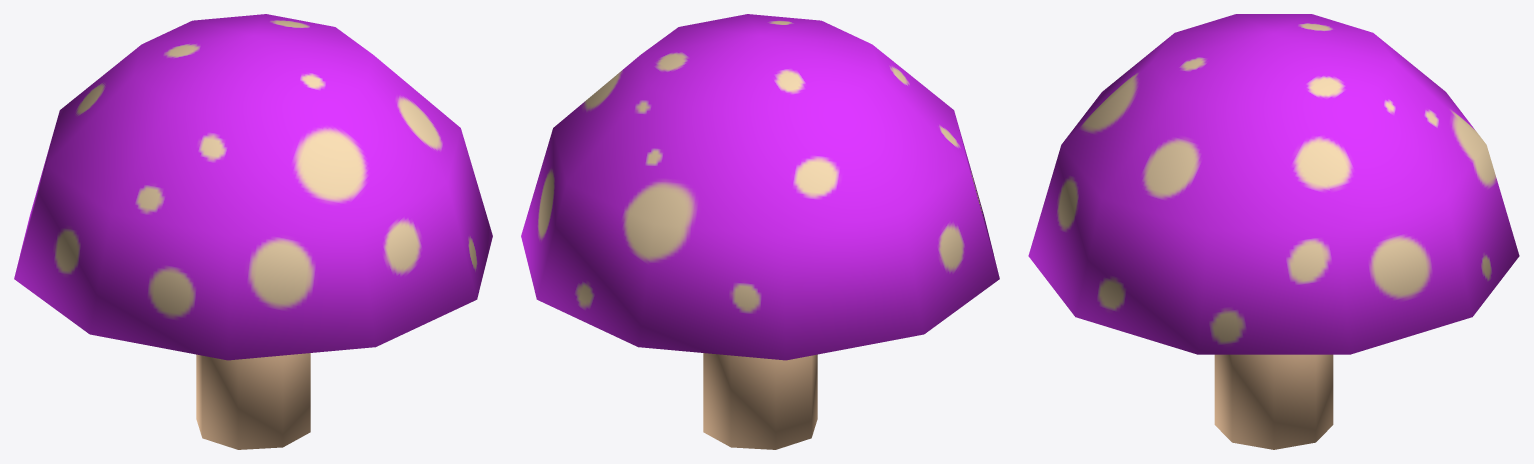
The model's file is PuffcapMushroomItem.glb.
The picture shows the model from 3 angles, left to right: view 1: azimuth 30°, elevation 25°; view 2: azimuth 150°, elevation 25°; view 3: azimuth 270°, elevation 25°; orthographic projection.
Parts seen in each view (by area): view 1: ShroomHead, Stem; view 2: ShroomHead, Stem; view 3: ShroomHead, Stem.
Boxes of the visible parts, x1,y1,x2,y2 form: ShroomHead: [14, 14, 492, 360]; Stem: [196, 353, 310, 449]; ShroomHead: [521, 14, 999, 360]; Stem: [703, 353, 817, 449]; ShroomHead: [1028, 14, 1519, 354]; Stem: [1214, 354, 1333, 449].
Bounding box in the file's own units: 1.9 × 1.76 × 2.
2 materials, 1 textured.
